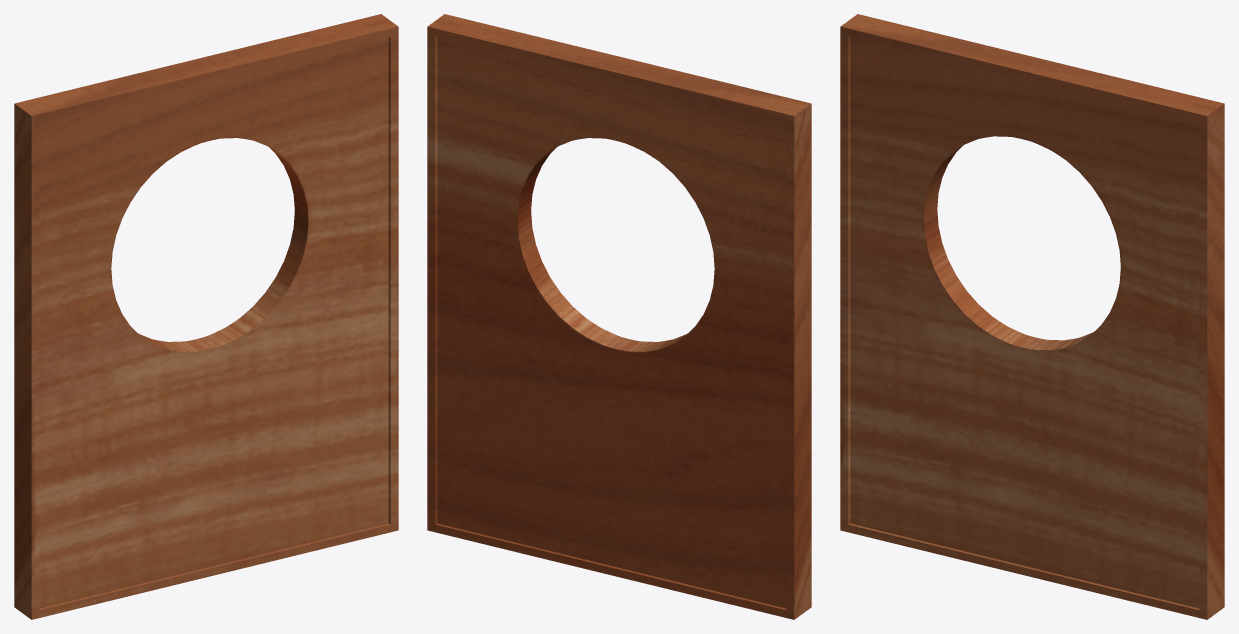
The model's file is NNJ0510003.fbx.
The picture shows the model from 3 angles, left to right: view 1: azimuth 30°, elevation 25°; view 2: azimuth 150°, elevation 25°; view 3: azimuth 330°, elevation 25°; orthographic projection.
Visible parts, largest first — view 1: smNNJ0510003; view 2: smNNJ0510003; view 3: smNNJ0510003.
Boxes of the visible parts, x1=… form: smNNJ0510003: x1=14, y1=14, x2=398, y2=619; smNNJ0510003: x1=427, y1=14, x2=811, y2=619; smNNJ0510003: x1=840, y1=14, x2=1224, y2=619.
Size of the model in its own units: 222 by 291 by 18.03.
1 material, 1 textured.
